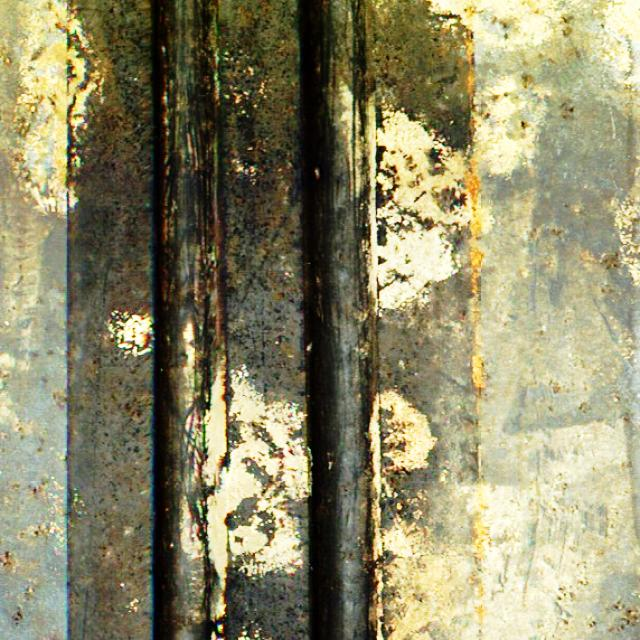Corrosion: (465, 157, 485, 348), (464, 4, 480, 128), (473, 485, 489, 564), (471, 354, 486, 391), (475, 580, 485, 623)
